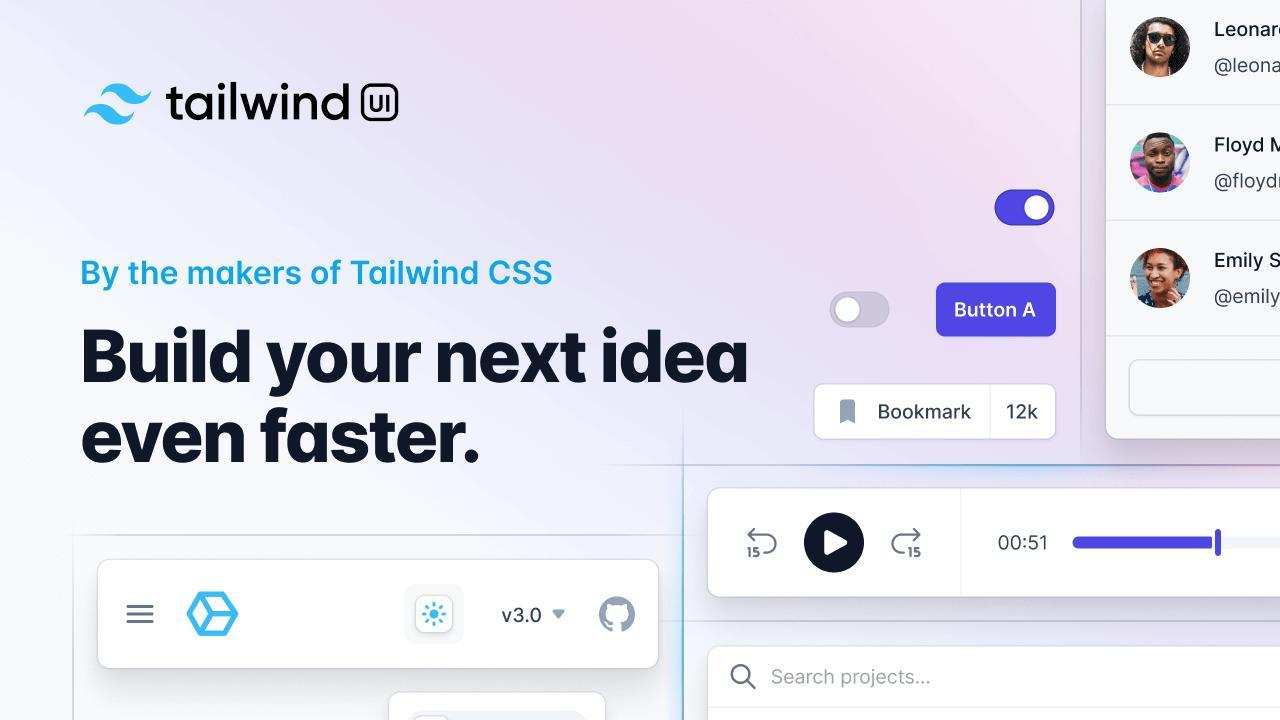button: (815, 384, 1057, 441), (936, 282, 1057, 338)
icon: (799, 510, 870, 577), (184, 586, 241, 643), (738, 523, 788, 570), (119, 589, 166, 638), (884, 522, 933, 565), (598, 589, 636, 639), (416, 598, 455, 634)
input: (712, 643, 1280, 711), (1130, 363, 1280, 414)
slider: (1070, 524, 1280, 557)
switch: (829, 290, 891, 331), (995, 191, 1058, 228)
